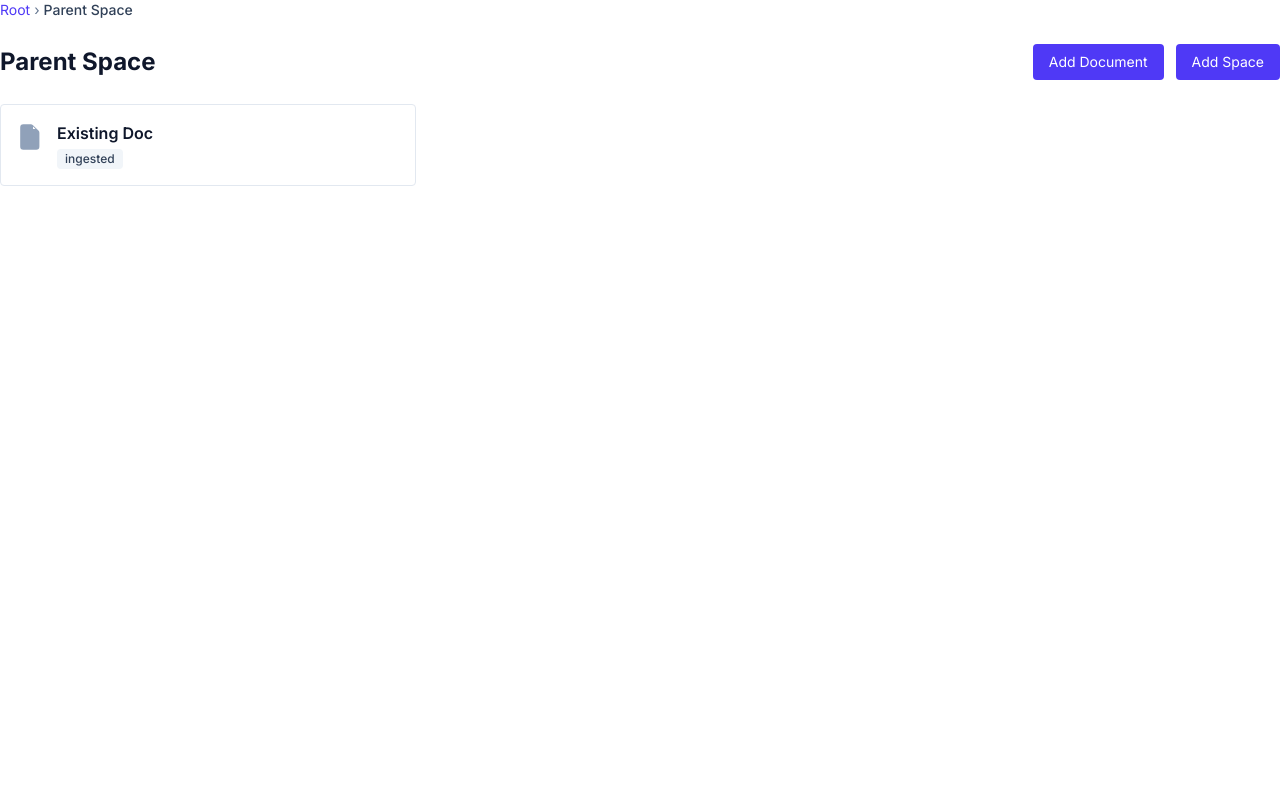
Test case: Space page — Add Document button (US1) › creates nothing and leaves the page unchanged on cancel
The image size is (1280, 800).
expect the heading "Parent Space" is shown: met, box [0,46,156,78]
Click the button "Add Document" at (1098, 62), box [1033,44,1164,80]
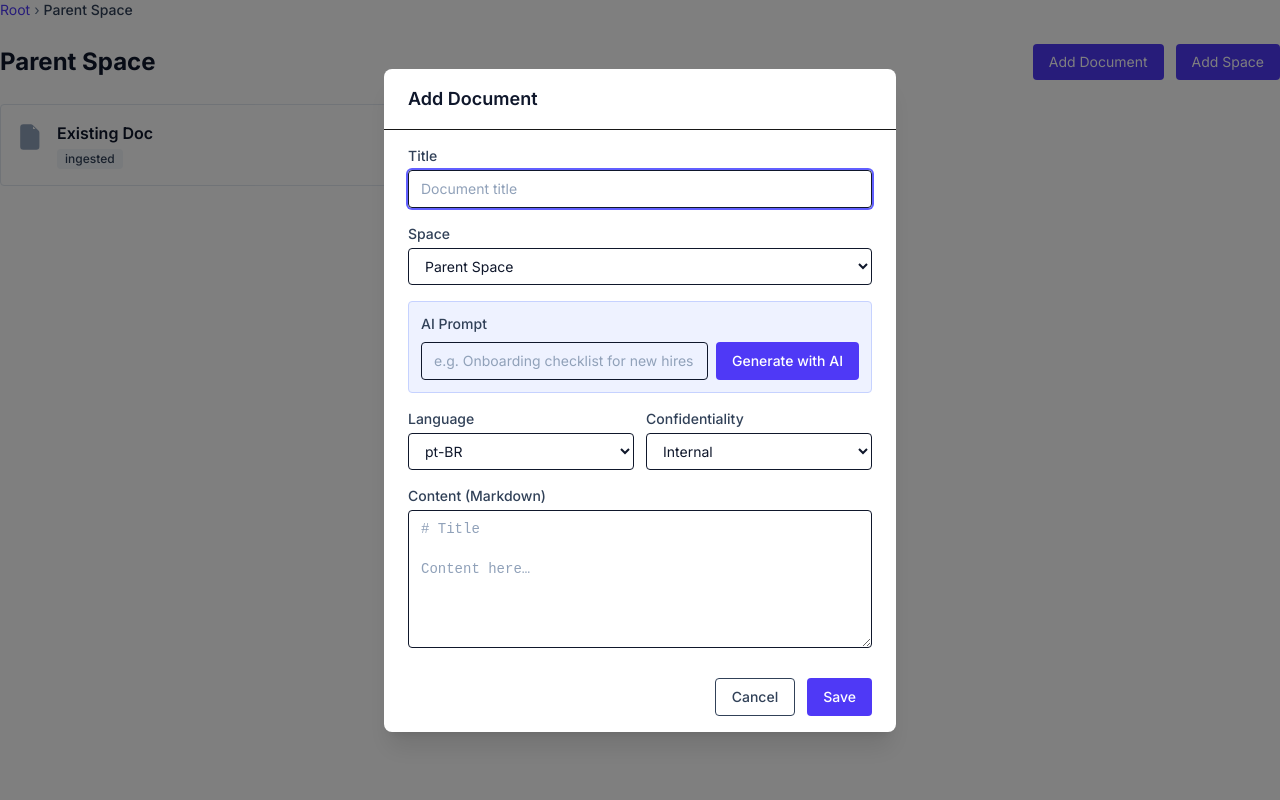
Type "Abandoned" into the field labelled "Title" at (640, 188), box [408,170,872,208]
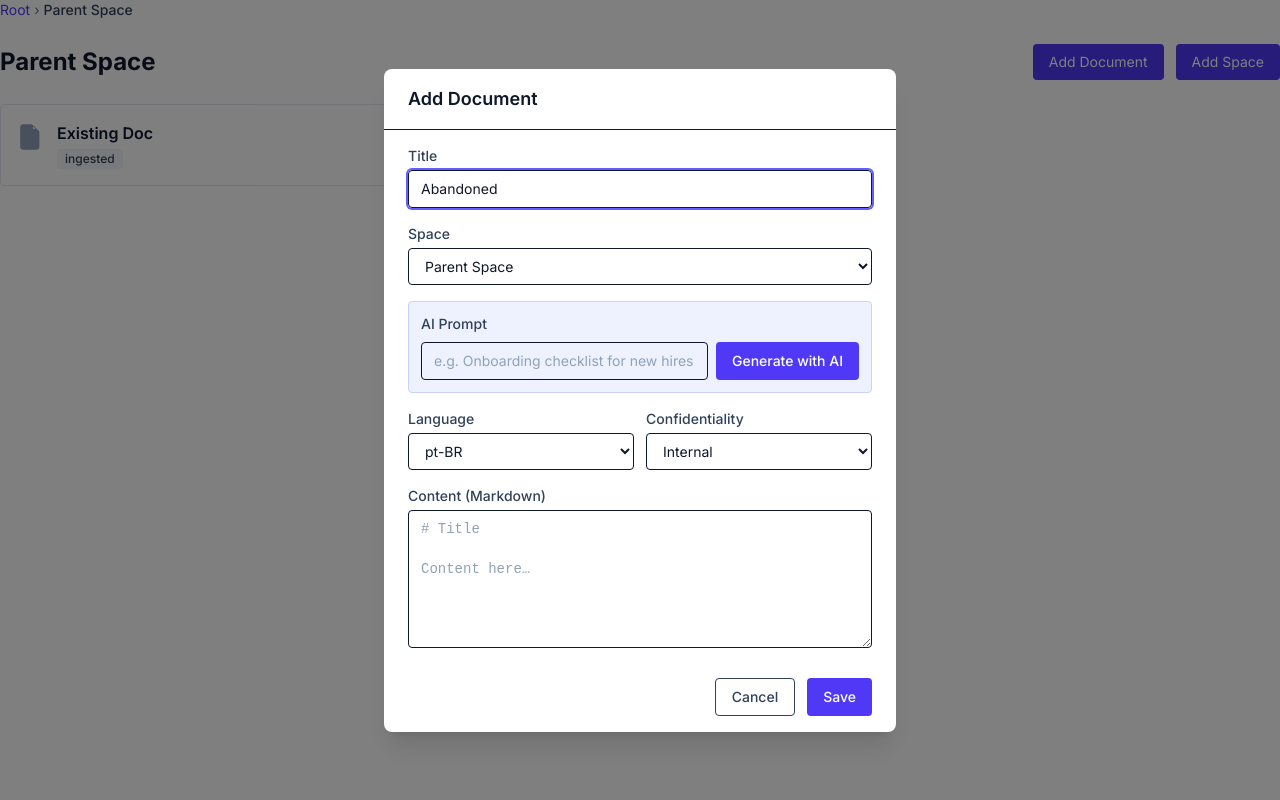
Click the button "Cancel" at (755, 696), box [715,678,795,716]
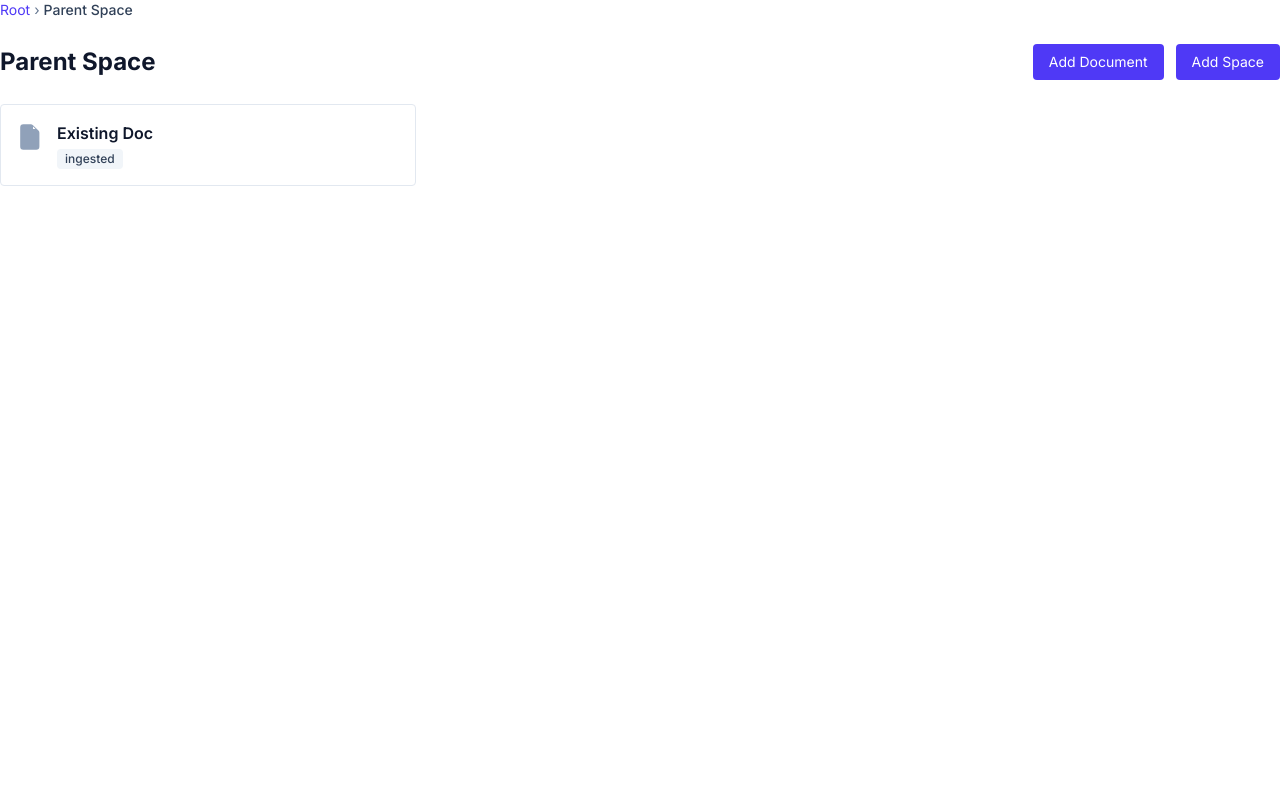
expect the text "Abandoned" is not shown: met
expect the dialog is gone: met
